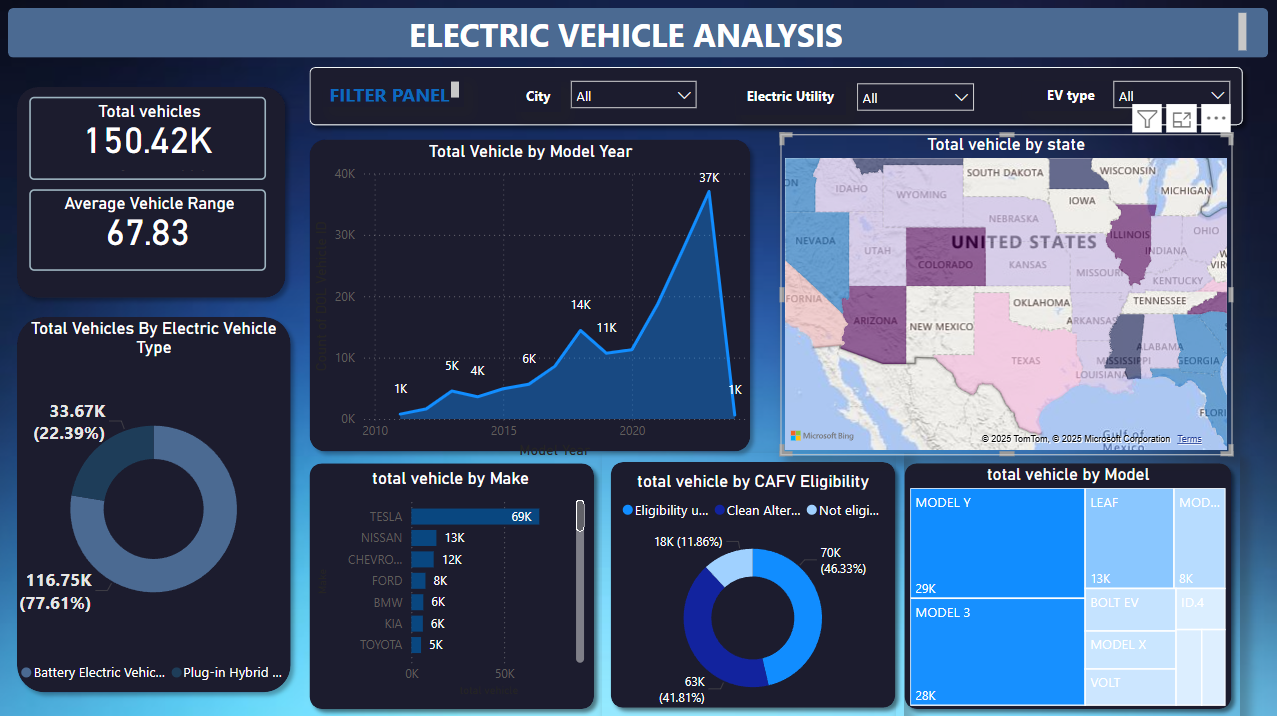

This screenshot's page, from the dashboard's own definition file:
{"tool":"powerbi","page":{"name":"Page 1","canvas":[1280,720],"ordinal":0},"visuals":[{"type":"shape","box":[9.4,9.4,1260.1,49.7],"z":0},{"type":"textbox","box":[10,10,1243.8,50],"z":1000},{"type":"shape","box":[10,80,286.2,228.8],"z":2000},{"type":"card","title":"Total vehicles","fields":{"Values":["Count(Electric_Vehicle_Population_Data.DOL Vehicle ID)"]},"box":[31.4,98.6,237.1,82.9],"z":3000},{"type":"card","title":"Average Vehicle Range","fields":{"Values":["Avg(Electric_Vehicle_Population_Data.Electric Range)"]},"box":[31.4,191.4,237.1,81.4],"z":4000},{"type":"shape","box":[10,310,291.7,393.3],"z":5000},{"type":"donutChart","title":"Total Vehicles By Electric Vehicle Type ","fields":{"Category":["Electric_Vehicle_Population_Data.Electric Vehicle Type"],"Y":["CountNonNull(Electric_Vehicle_Population_Data.DOL Vehicle ID)"]},"box":[15,320,281.7,373.3],"z":7000},{"type":"shape","box":[302.5,60,951.2,76.2],"z":8000},{"type":"shape","box":[302.5,132.5,458.8,330],"z":9000},{"type":"areaChart","title":"Total Vehicle by Model Year","fields":{"Category":["Electric_Vehicle_Population_Data.Model Year"],"Y":["CountNonNull(Electric_Vehicle_Population_Data.DOL Vehicle ID)"]},"box":[310,142.5,445,322.5],"z":10000},{"type":"filledMap","title":"Total vehicle by state","fields":{"Category":["Electric_Vehicle_Population_Data.State"]},"box":[782.5,136.2,451.2,321.2],"z":11000},{"type":"shape","box":[302.5,456.2,302.5,263.8],"z":12000},{"type":"barChart","fields":{"Category":["Electric_Vehicle_Population_Data.Make"],"Y":["Electric_Vehicle_Population_Data.total vehicle"]},"box":[313.8,470,277.5,233.8],"z":13000},{"type":"shape","box":[603.8,455,302.5,263.8],"z":14000},{"type":"donutChart","title":"total vehicle by CAFV Eligibility","fields":{"Y":["Electric_Vehicle_Population_Data.total vehicle"],"Category":["Electric_Vehicle_Population_Data.Clean Alternative Fuel Vehicle (CAFV) Eligibility"]},"box":[612.5,472.5,285,246.2],"z":15000},{"type":"shape","box":[897.5,456.2,345,263.8],"z":16000},{"type":"treemap","fields":{"Group":["Electric_Vehicle_Population_Data.Model"],"Values":["Electric_Vehicle_Population_Data.total vehicle"]},"box":[907.5,466.2,325,246.2],"z":17000},{"type":"textbox","box":[324.5,79.1,140.9,30],"z":18000},{"type":"slicer","title":"CITY","fields":{"Values":["Electric_Vehicle_Population_Data.City"]},"box":[562.7,72.7,146.4,40.9],"z":19000},{"type":"textbox","box":[517.3,83.6,45.5,30],"z":20000},{"type":"slicer","title":"CITY","fields":{"Values":["Electric_Vehicle_Population_Data.Electric Utility"]},"box":[849.1,74.5,137.3,40.9],"z":21000},{"type":"textbox","box":[737.5,83.8,110,32.5],"z":22000},{"type":"textbox","box":[1023.6,82.7,98.2,30],"z":24000},{"type":"slicer","title":"CITY","fields":{"Values":["Electric_Vehicle_Population_Data.Electric Vehicle Type"]},"box":[1104.5,72.7,137.3,40.9],"z":25000}]}

Visuals, with their boxes in screenshot pixels (x1, y1, x2, y2), scaled from the page's 1280x720 canvas onto the 1277x716 screenshot:
shape: BBox(9, 9, 1267, 59)
textbox: BBox(10, 10, 1251, 60)
shape: BBox(10, 80, 296, 307)
"Total vehicles" card: BBox(31, 98, 268, 180)
"Average Vehicle Range" card: BBox(31, 190, 268, 271)
shape: BBox(10, 308, 301, 699)
"Total Vehicles By Electric Vehicle Type " donutChart: BBox(15, 318, 296, 689)
shape: BBox(302, 60, 1251, 135)
shape: BBox(302, 132, 760, 460)
"Total Vehicle by Model Year" areaChart: BBox(309, 142, 753, 462)
"Total vehicle by state" filledMap: BBox(781, 135, 1231, 455)
shape: BBox(302, 454, 604, 715)
barChart - Electric_Vehicle_Population_Data.Make x Electric_Vehicle_Population_Data.total vehicle: BBox(313, 467, 590, 700)
shape: BBox(602, 452, 904, 715)
"total vehicle by CAFV Eligibility" donutChart: BBox(611, 470, 895, 715)
shape: BBox(895, 454, 1240, 715)
treemap - Electric_Vehicle_Population_Data.Model x Electric_Vehicle_Population_Data.total vehicle: BBox(905, 464, 1230, 708)
textbox: BBox(324, 79, 464, 108)
"CITY" slicer: BBox(561, 72, 707, 113)
textbox: BBox(516, 83, 561, 113)
"CITY" slicer: BBox(847, 74, 984, 115)
textbox: BBox(736, 83, 846, 116)
textbox: BBox(1021, 82, 1119, 112)
"CITY" slicer: BBox(1102, 72, 1239, 113)
